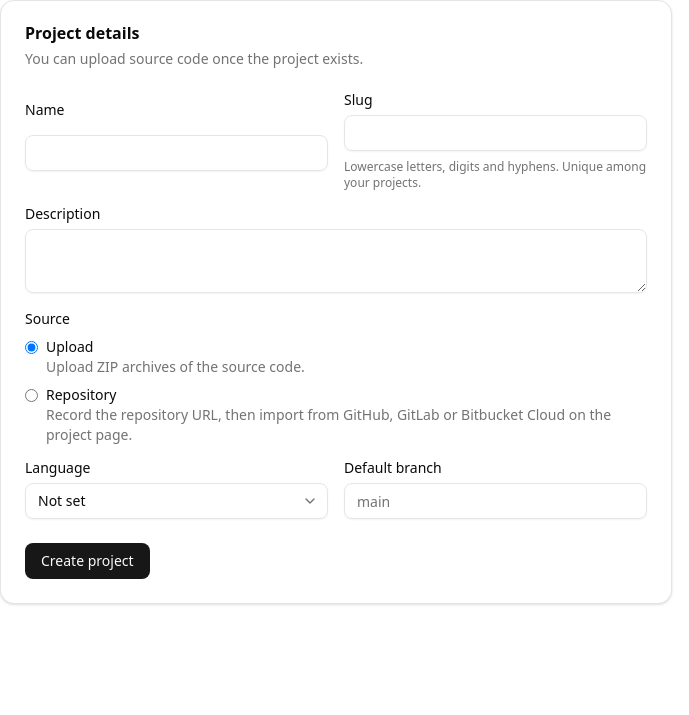
Scenario: ProjectForm › shows server validation errors on the right field
Step 1. Type "Billing" into the field labelled "Name" → (176, 153), box [25,135,328,171]
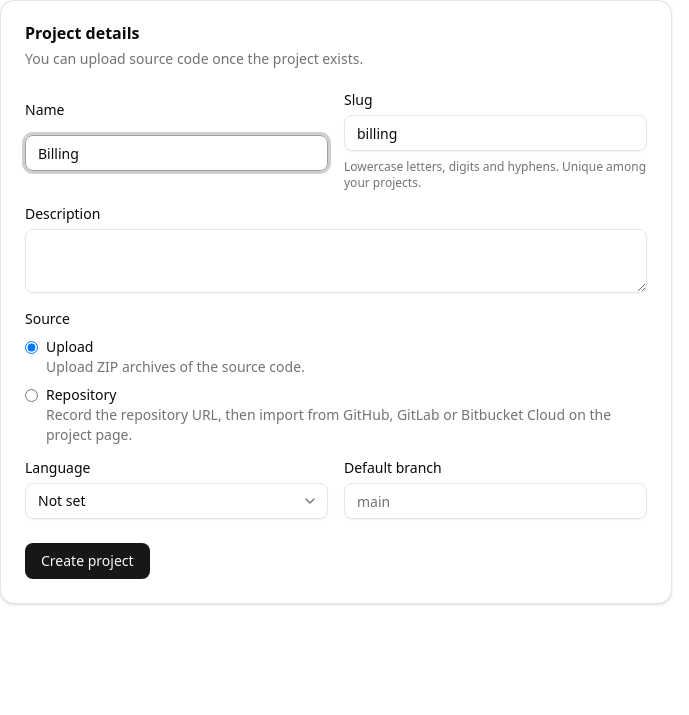
Step 2. Click the button "Create project" → (87, 561), box [25,543,150,579]
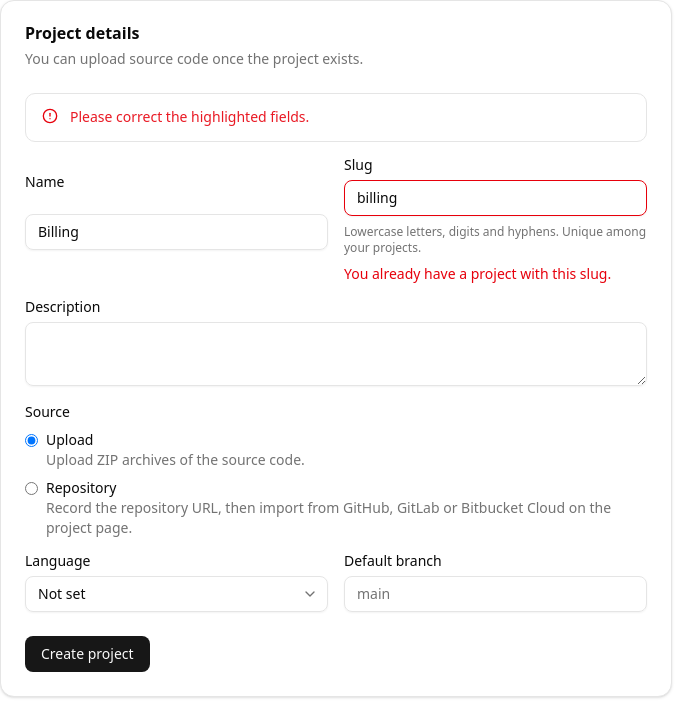
Now the text "You already have a project with this slug." is shown, box [344,264,647,284]
